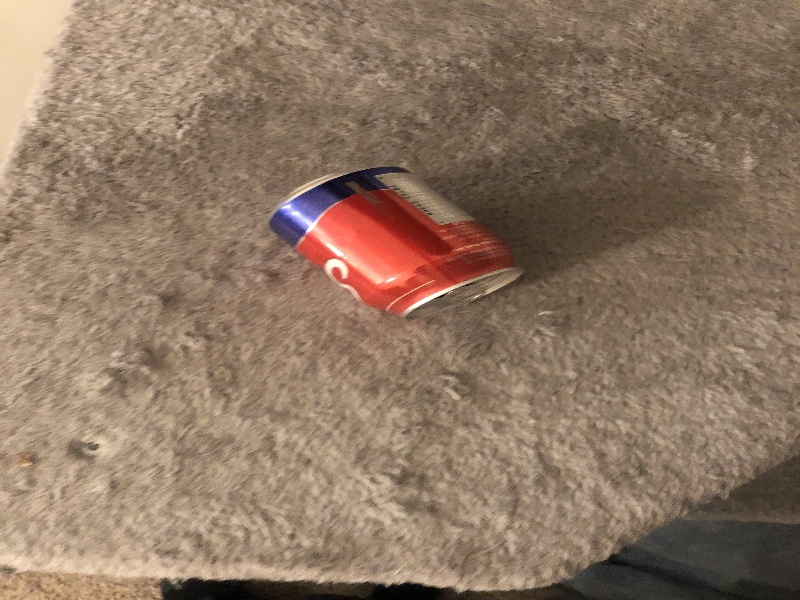metal: (262, 163, 530, 321)
